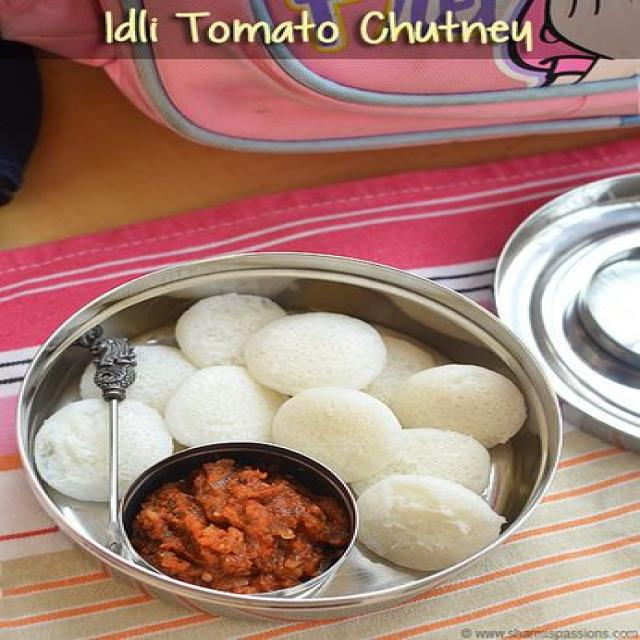Idly: (35, 390, 179, 503), (360, 472, 518, 573), (225, 304, 393, 397), (397, 352, 528, 444), (273, 381, 405, 472), (354, 430, 514, 498), (180, 296, 295, 377), (159, 372, 285, 445)
